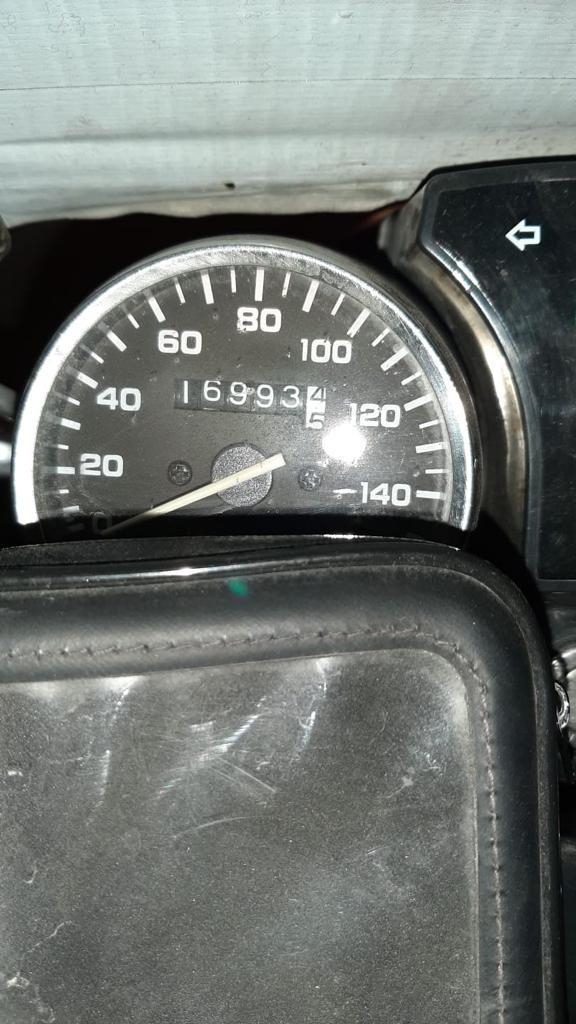1: (182, 380, 189, 403)
3: (281, 384, 299, 408)
4: (310, 385, 326, 405)
5: (308, 411, 325, 432)
6: (203, 379, 222, 401)
9: (228, 381, 247, 406), (256, 383, 273, 408)
odometer: (172, 376, 329, 433)
